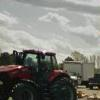Tractor: (1, 42, 68, 100)
